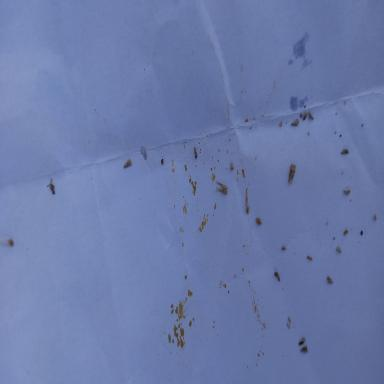pbw: (288, 164, 295, 184), (290, 119, 298, 126)
